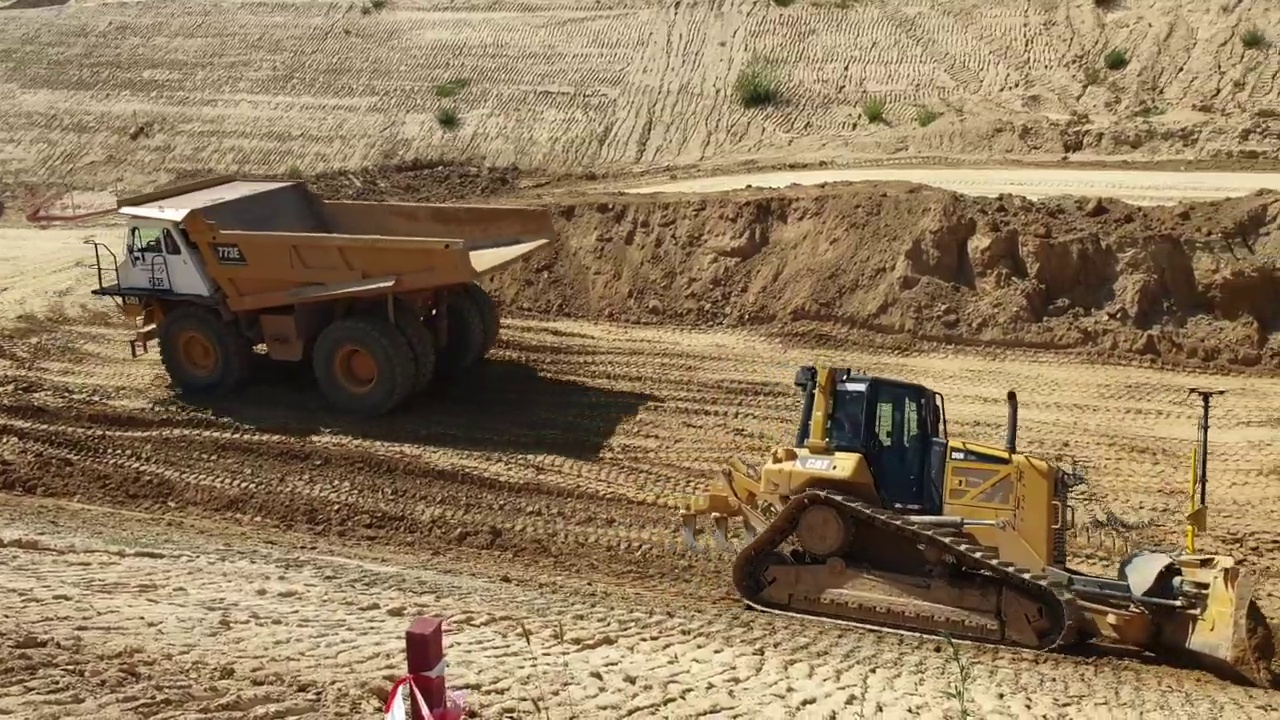bulldozer: (673, 358, 1276, 696)
truck: (85, 171, 560, 423)
